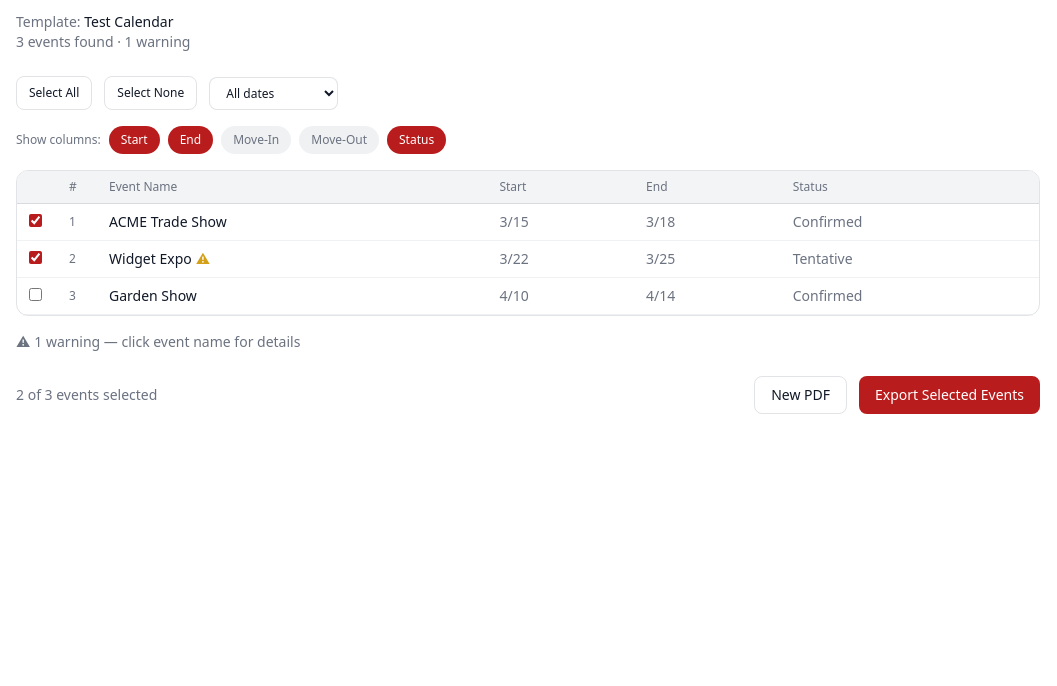
it: ResultsPage › expands event detail on name click and shows warnings
Click the button "Widget Expo⚠" at (160, 259), box 109,249 -> 210,269
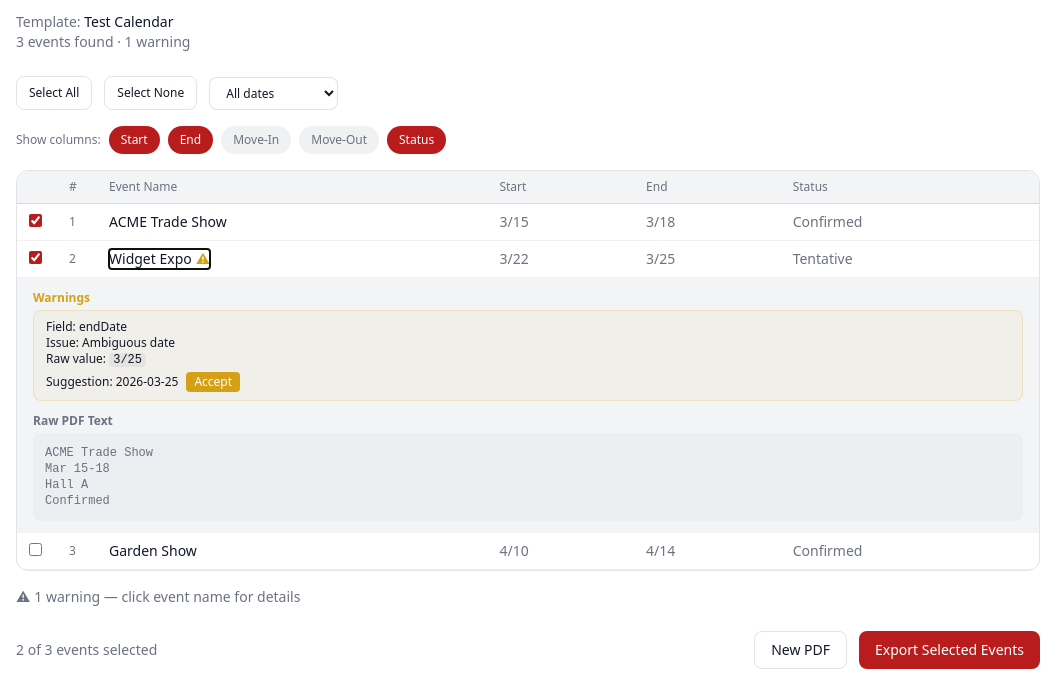
Expected: the heading "Warnings" is shown, 33,289 -> 90,306
Expected: the text "Ambiguous date" is shown, 82,334 -> 175,351
Expected: the heading "Raw PDF Text" is shown, 33,412 -> 113,429
